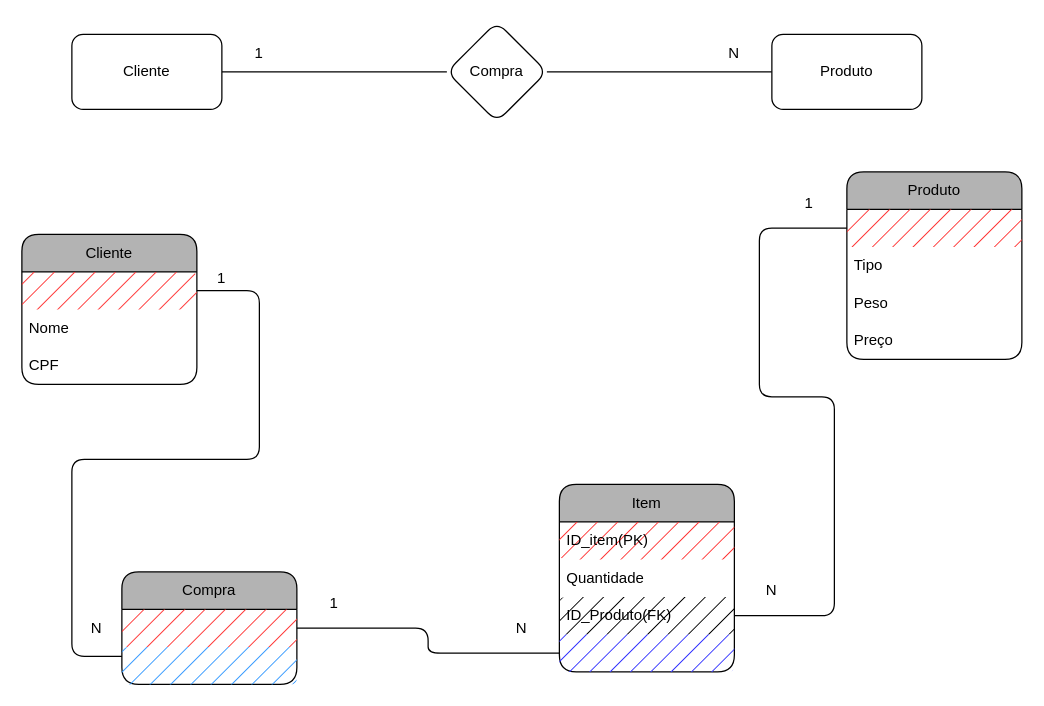
The diagram is 1044 pixels wide and 706 high, and some of its shapes have lost their labels. Here are the shapes that lost their labels. From the top down, the box of each, then its label:
(846, 209, 1021, 246): ID_Produto (PK)
(21, 271, 196, 309): ID_Cliente(PK)
(121, 609, 296, 646): ID_Nota(PK)
(121, 646, 296, 684): ID_Cliente(FK)
(559, 634, 734, 671): ID_Nota(FK)
